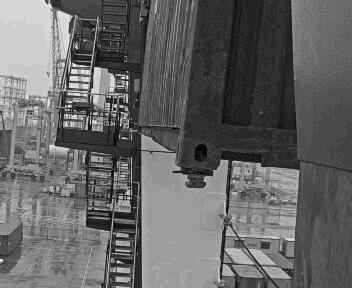twist_lock_1: (185, 167, 225, 196)
